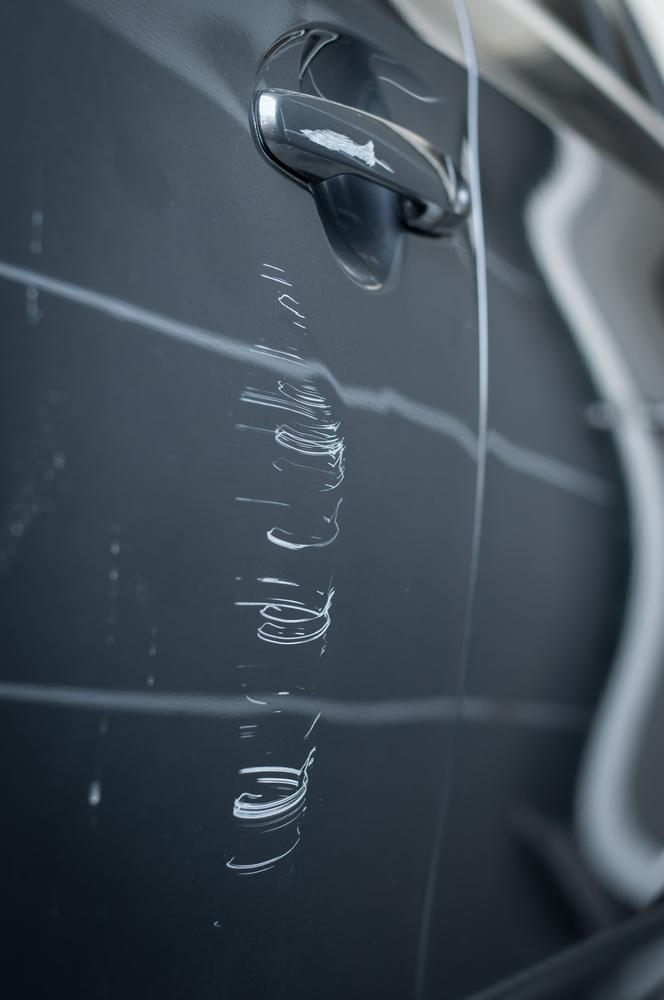scratch: (222, 260, 350, 888), (297, 129, 396, 174)
